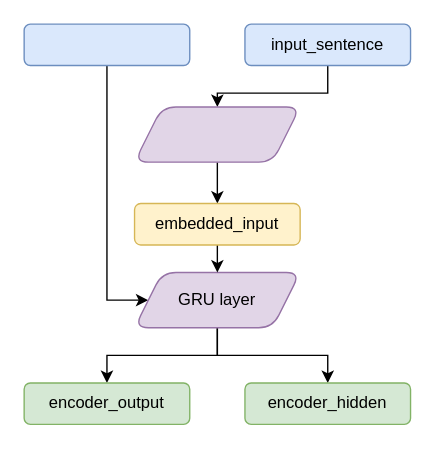
Image size: 435x449. Some labels were removed from this diagram. The shapes that lost their labels are listed below. From the top down, each one's centre as x and y in pixels, then its label:
At point (106, 44): "previous_hidden".
At point (216, 134): "Embedding layer".
